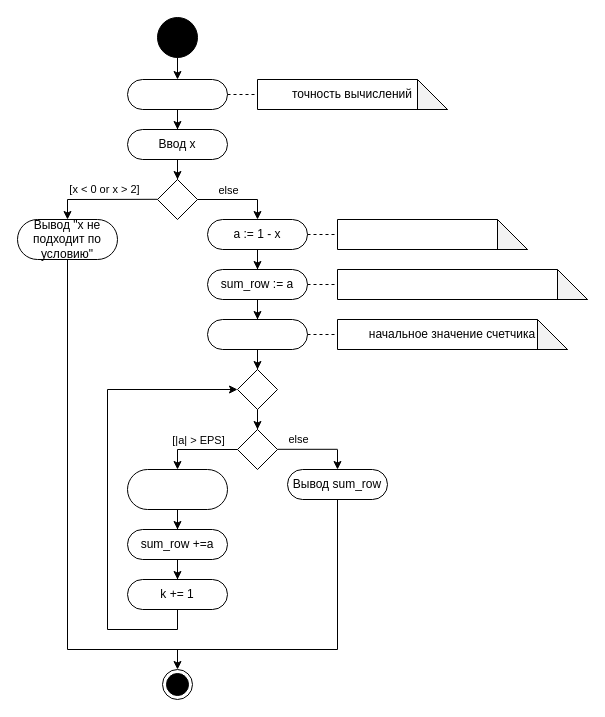
Some shapes in this 605 by 717 pixel diagram are drawn without their labels. Here are the shapes that lost their labels. From the top down, the box of each, then its label:
(126, 78, 228, 110): EPS := 1e-10
(336, 218, 528, 250): первый член ряда
(336, 268, 588, 300): начальное значение суммы ряда
(206, 318, 308, 350): k := 1
(126, 468, 228, 510): a *= ((1 - x) * (k**2)) / ((k + 1)**2)
